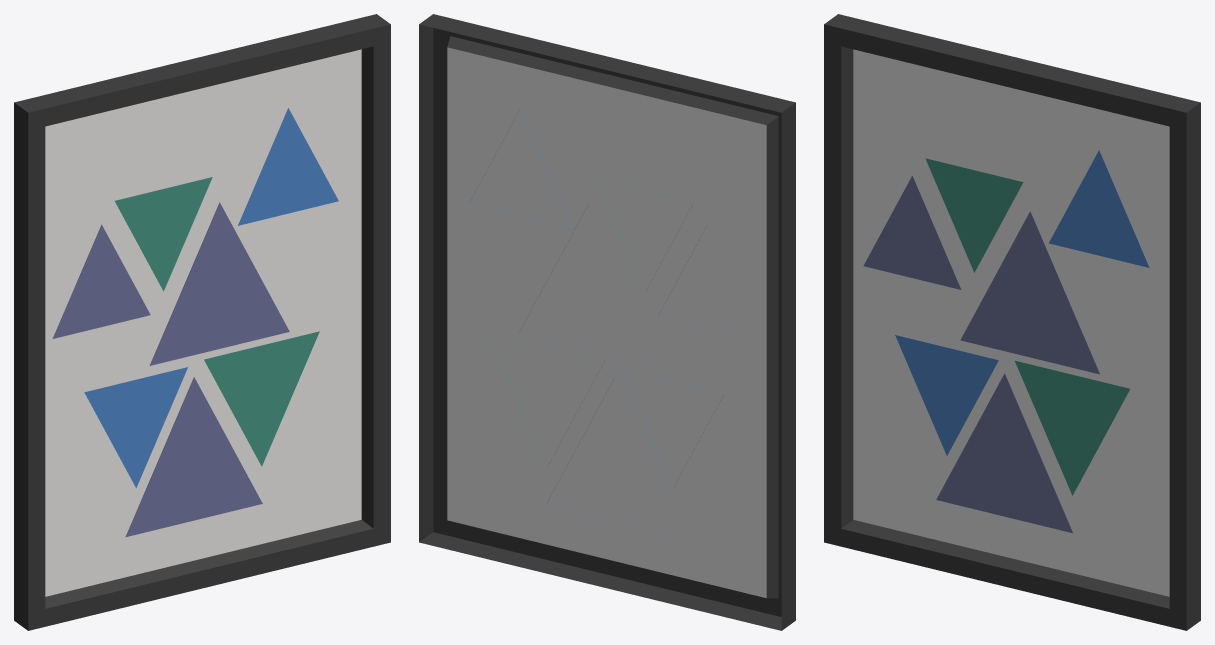
File: Picture_6.fbx
3 views of the same model, side by side, from view 1: azimuth 30°, elevation 25°; view 2: azimuth 150°, elevation 25°; view 3: azimuth 330°, elevation 25° (orthographic).
Visible parts, largest first — view 1: Picture_6; view 2: Picture_6; view 3: Picture_6.
Part boxes in pixels (left/top/right/bottom): Picture_6: left=14, top=14, right=390, bottom=630; Picture_6: left=419, top=14, right=795, bottom=630; Picture_6: left=824, top=14, right=1200, bottom=630.
Size of the model in its own units: 67.89 by 4.58 by 92.7.
